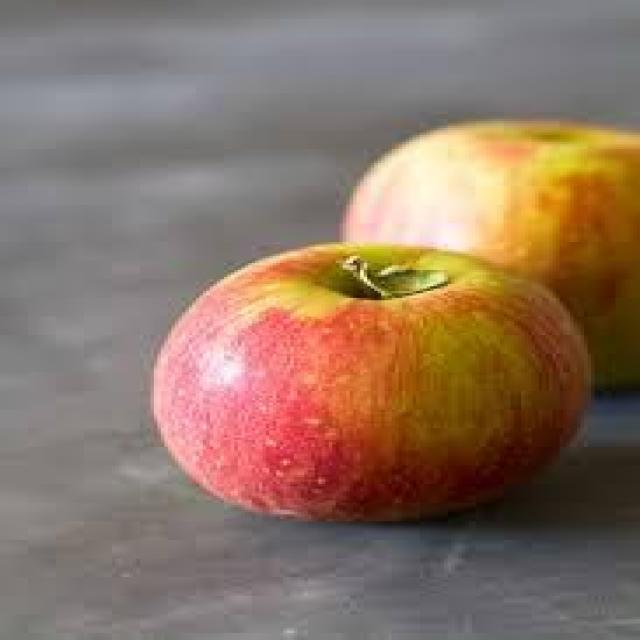maca: (147, 240, 591, 521), (339, 116, 637, 391)
